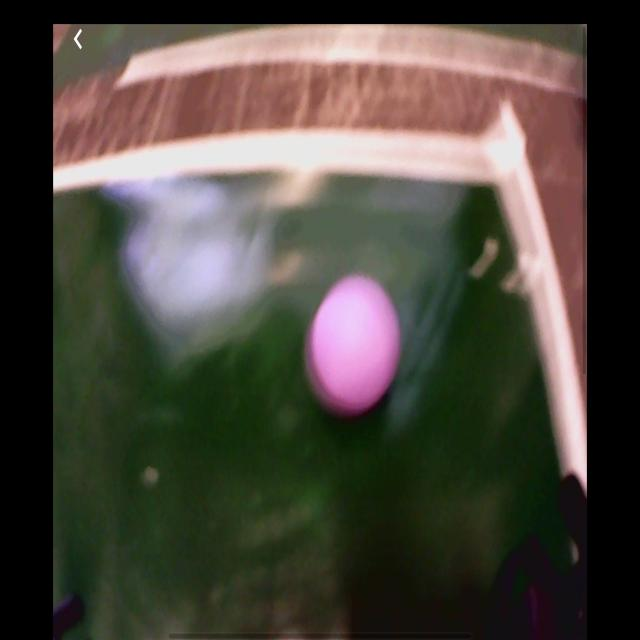ball: (310, 270, 402, 411)
